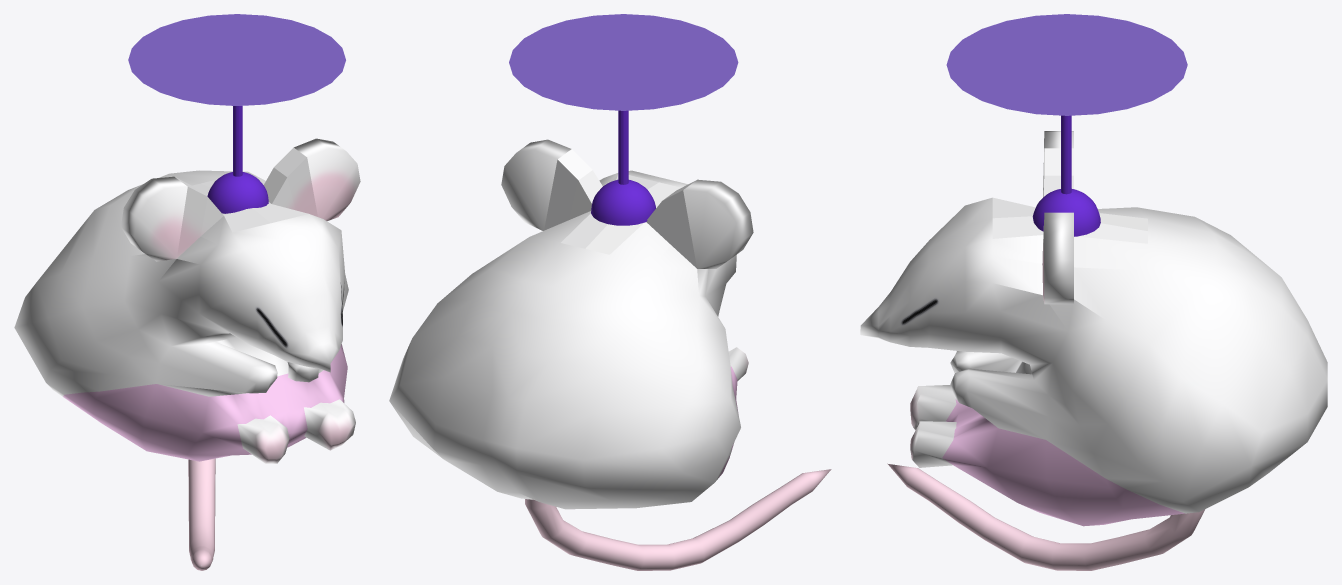
File: enemy01-1.fbx
The picture shows the model from 3 angles, left to right: view 1: azimuth 30°, elevation 25°; view 2: azimuth 150°, elevation 25°; view 3: azimuth 270°, elevation 25°; orthographic projection. The views are drawn at different scales.
Parts seen in each view (by area): view 1: tael1, wing, takekoputa_; view 2: tael1, wing, takekoputa_; view 3: tael1, wing, takekoputa_.
Part boxes in pixels (x1=…): tael1: x1=14, y1=138, x2=360, y2=570; wing: x1=128, y1=14, x2=345, y2=105; takekoputa_: x1=207, y1=106, x2=268, y2=213; tael1: x1=389, y1=139, x2=831, y2=570; wing: x1=509, y1=14, x2=738, y2=110; takekoputa_: x1=591, y1=110, x2=655, y2=225; tael1: x1=860, y1=131, x2=1327, y2=570; wing: x1=946, y1=14, x2=1187, y2=115; takekoputa_: x1=1032, y1=115, x2=1100, y2=236.
Size of the model in its own units: 0.7636 by 1.17 by 0.9421.
Materials: 3 (3 with a texture image).
